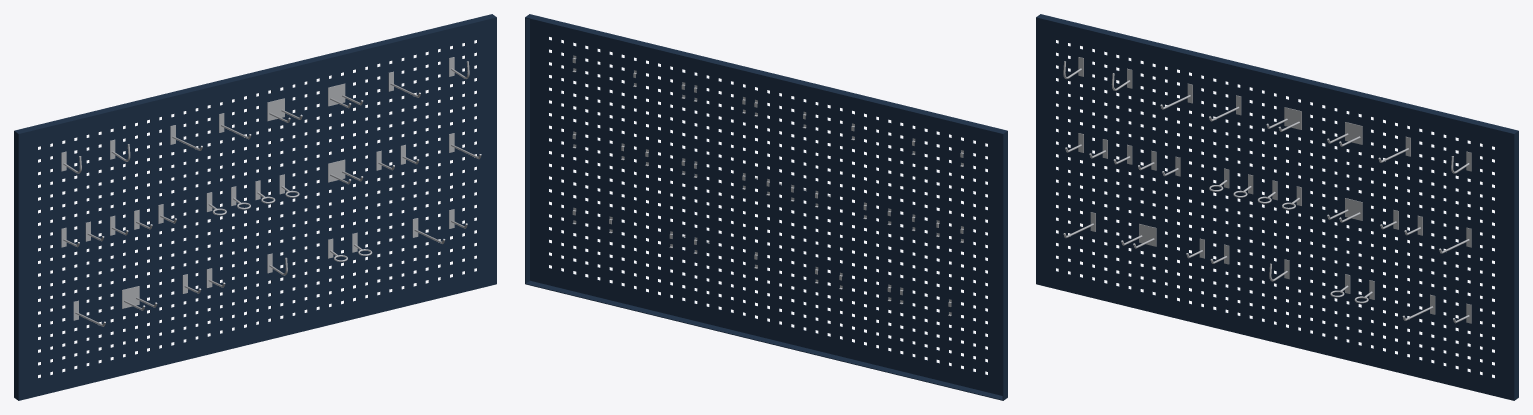
Rendered from werkzeugwand.obj.
3 views of the same model, side by side, from view 1: azimuth 30°, elevation 25°; view 2: azimuth 150°, elevation 25°; view 3: azimuth 330°, elevation 25° (orthographic).
Parts seen in each view (by area): view 1: Lochwand_Platte, Haken_05_doppel, Haken_23_doppel, Haken_18_doppel, Haken_06_doppel; view 2: Lochwand_Platte; view 3: Lochwand_Platte, Haken_05_doppel, Haken_23_doppel, Haken_06_doppel, Haken_18_doppel.
Part boxes in pixels (box(x1,y1,x2,y2)): Lochwand_Platte: box(14, 14, 496, 400); Haken_05_doppel: box(267, 98, 302, 122); Haken_23_doppel: box(122, 286, 157, 310); Haken_18_doppel: box(328, 159, 363, 184); Haken_06_doppel: box(328, 83, 363, 108); Lochwand_Platte: box(525, 14, 1007, 400); Lochwand_Platte: box(1036, 14, 1518, 400); Haken_05_doppel: box(1266, 107, 1301, 131); Haken_23_doppel: box(1121, 224, 1156, 248); Haken_06_doppel: box(1327, 122, 1362, 146); Haken_18_doppel: box(1327, 198, 1362, 222).
Bounding box in the file's own units: 1.5 × 0.8 × 0.1847.
